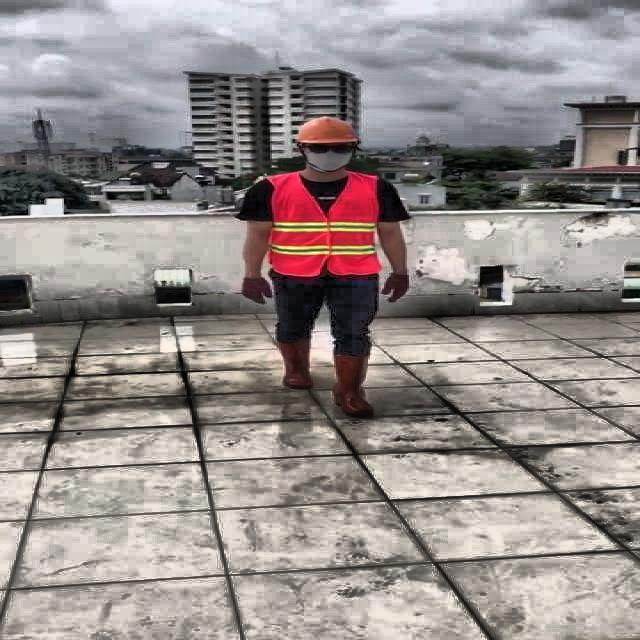safety_helmet: (296, 114, 356, 146)
safety_jacket: (268, 173, 384, 276)
